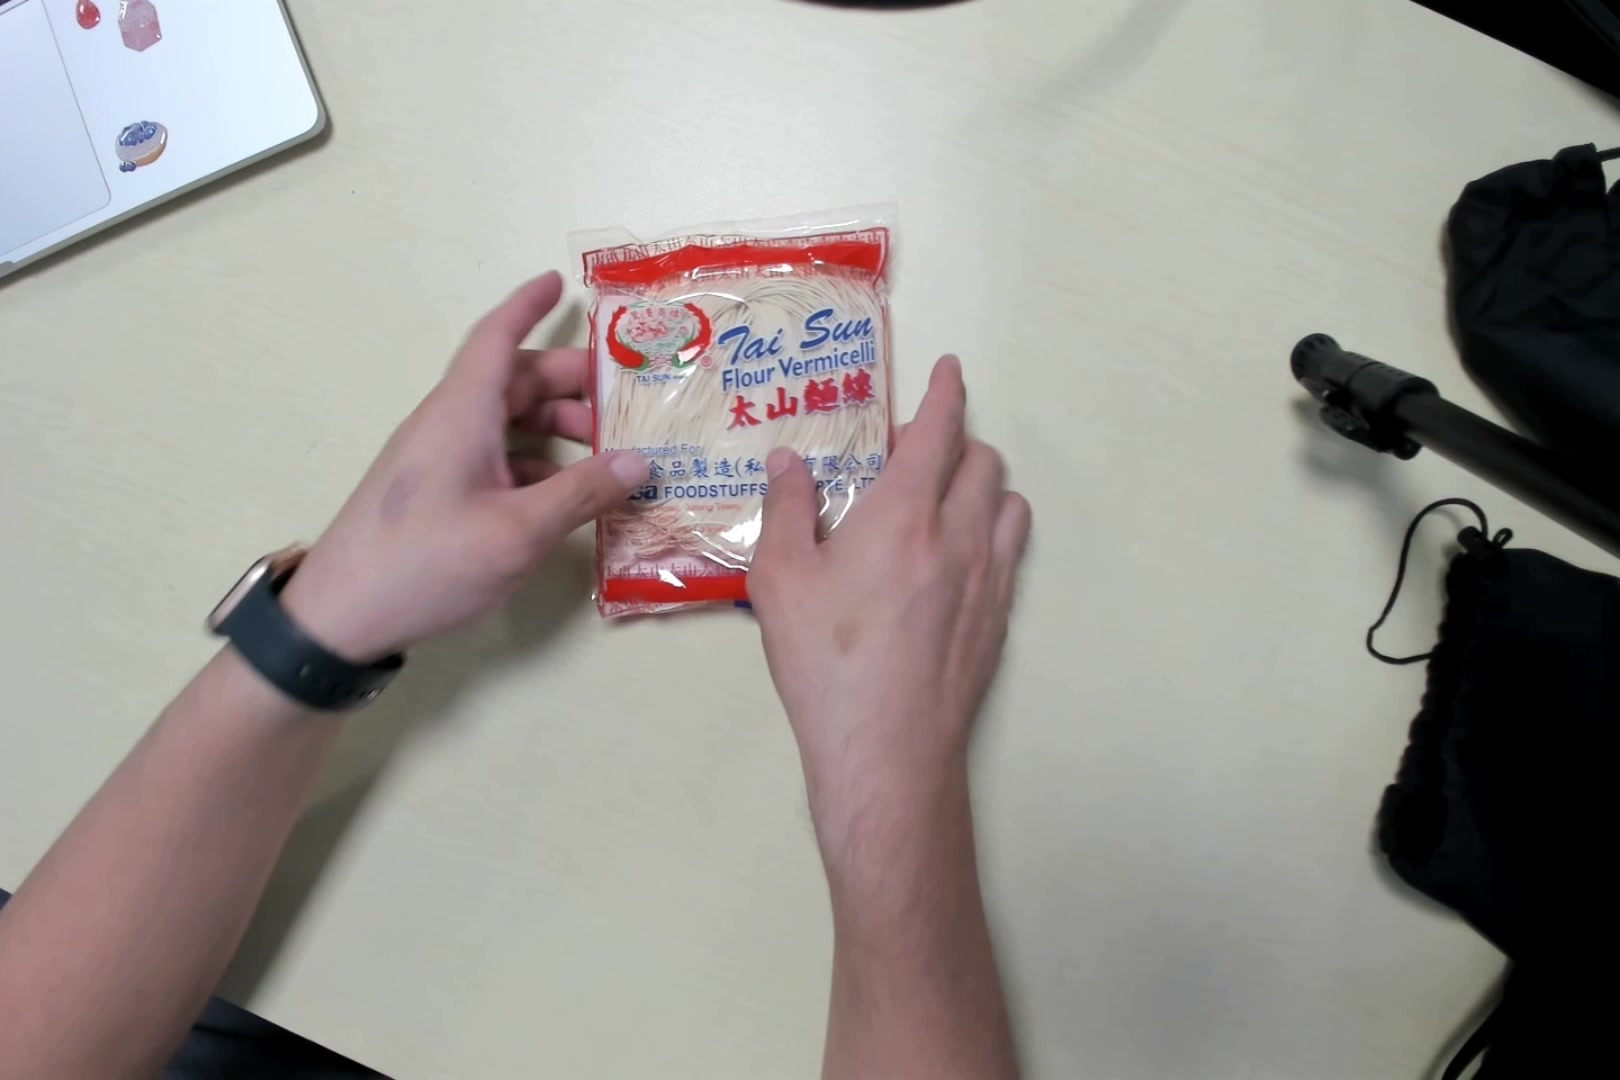BeeHoonVermicelli_100-199g_Halal_NonHealthy: (567, 219, 897, 626)
